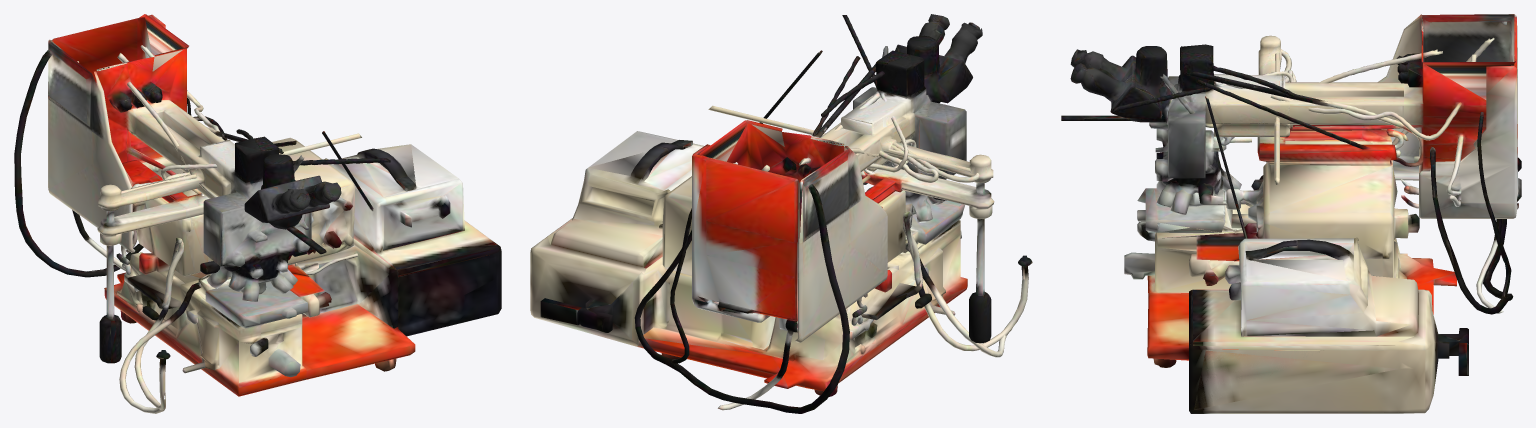
Rendered from metrology.glb.
The picture shows the model from 3 angles, left to right: view 1: azimuth 30°, elevation 25°; view 2: azimuth 150°, elevation 25°; view 3: azimuth 270°, elevation 25°; orthographic projection. The views are drawn at different scales.
Size of the model in its own units: 1.89 by 1.27 by 1.95.
Materials: 1 (1 with a texture image).
